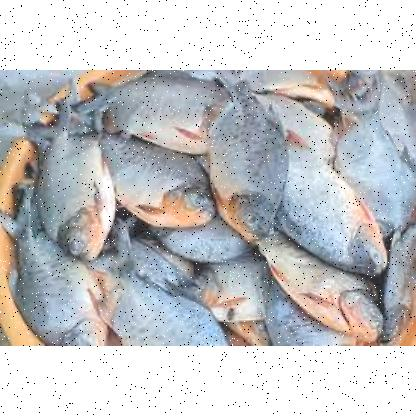ikan-pacu: (284, 138, 386, 274), (10, 216, 108, 344), (33, 112, 117, 260), (210, 86, 288, 240), (262, 241, 380, 341), (101, 131, 219, 228)
